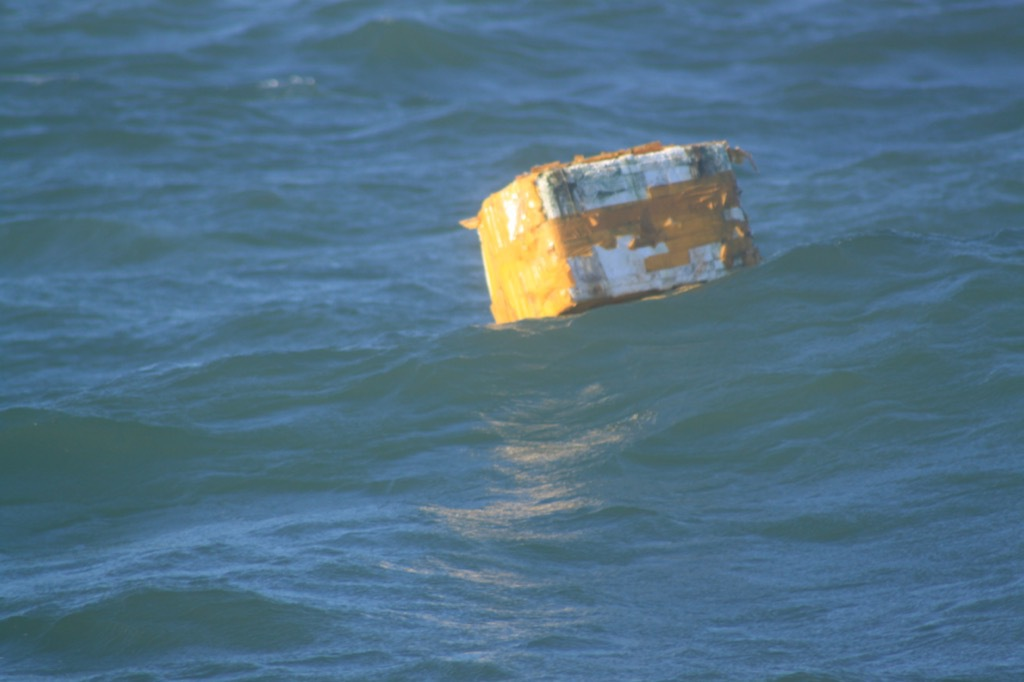plastic: (334, 44, 788, 682)
